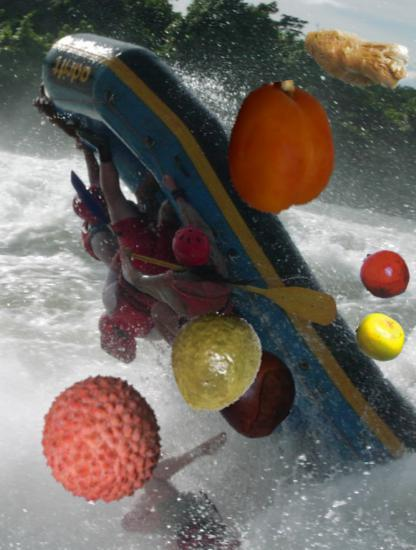Apricot: (214, 83, 345, 214)
Chestnut: (210, 347, 297, 434)
Ginger: (301, 2, 412, 113)
Guava: (164, 313, 265, 414)
Lychee: (36, 374, 167, 505)
Pomegranate: (358, 248, 412, 302)
Pomelo: (355, 312, 406, 363)
